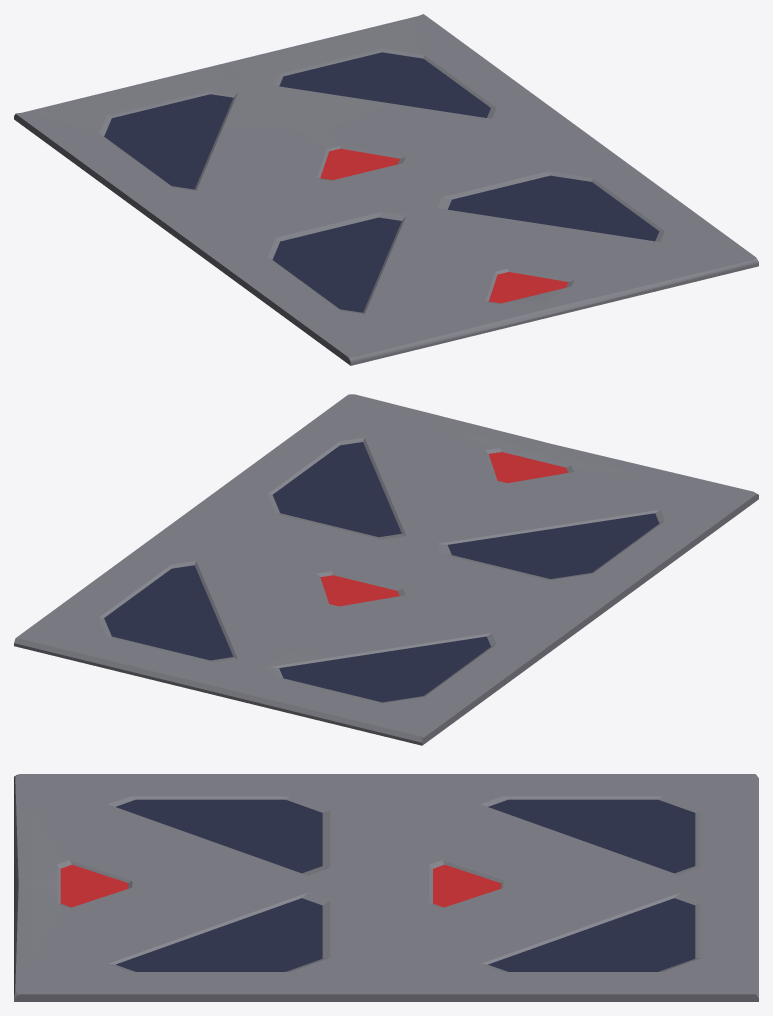
File: Floor_Ramp.fbx
The picture shows the model from 3 angles, top to bottom: view 1: azimuth 30°, elevation 25°; view 2: azimuth 150°, elevation 25°; view 3: azimuth 270°, elevation 25°; orthographic projection. The views are drawn at different scales.
Parts seen in each view (by area): view 1: Floor_Ramp; view 2: Floor_Ramp; view 3: Floor_Ramp.
Part boxes in pixels (x1,y1,x2,y2): Floor_Ramp: (14, 14, 758, 365); Floor_Ramp: (14, 394, 758, 745); Floor_Ramp: (14, 774, 758, 1001).
Bounding box in the file's own units: 700 × 11.28 × 1000.
